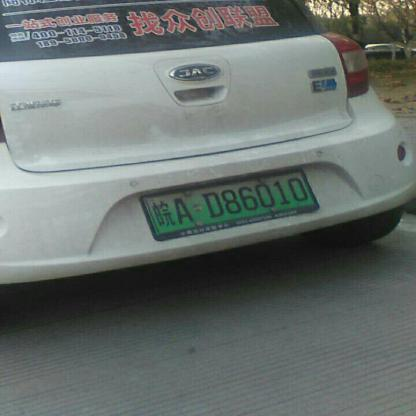lp: (144, 171, 316, 234)
